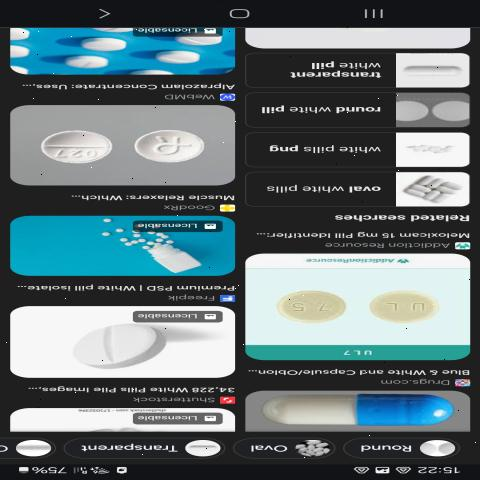Pill: (248, 385, 460, 429), (59, 322, 176, 374), (26, 122, 118, 178), (344, 284, 440, 335), (258, 283, 360, 330), (129, 120, 213, 174), (71, 35, 138, 53), (62, 53, 113, 74), (147, 48, 200, 68)
